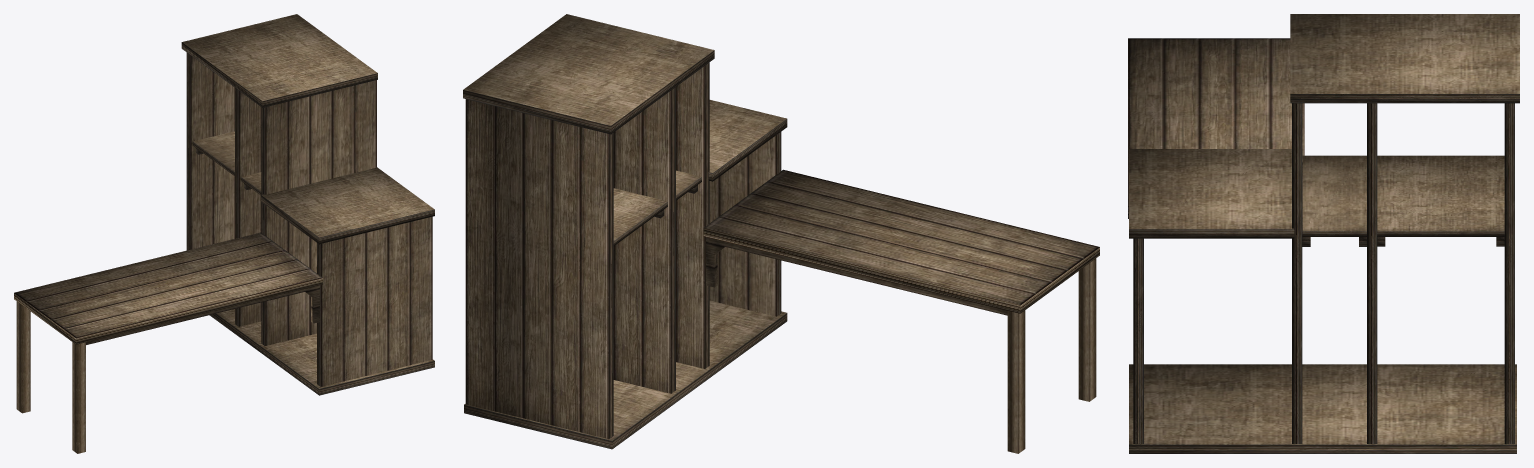
The model's file is GS_VOB_TABLESHELVES_YELLOW_01_KOZA.glb.
The picture shows the model from 3 angles, left to right: view 1: azimuth 30°, elevation 25°; view 2: azimuth 150°, elevation 25°; view 3: azimuth 270°, elevation 25°; orthographic projection. The views are drawn at different scales.
Visible parts, largest first — view 1: Mesh; view 2: Mesh; view 3: Mesh.
Part boxes in pixels (x1,y1,x2,y2): Mesh: (14, 14, 434, 453); Mesh: (463, 14, 1099, 453); Mesh: (1128, 14, 1519, 453).
Bounding box in the file's own units: 2.72 × 1.83 × 1.81.
Materials: 3 (3 with a texture image).
